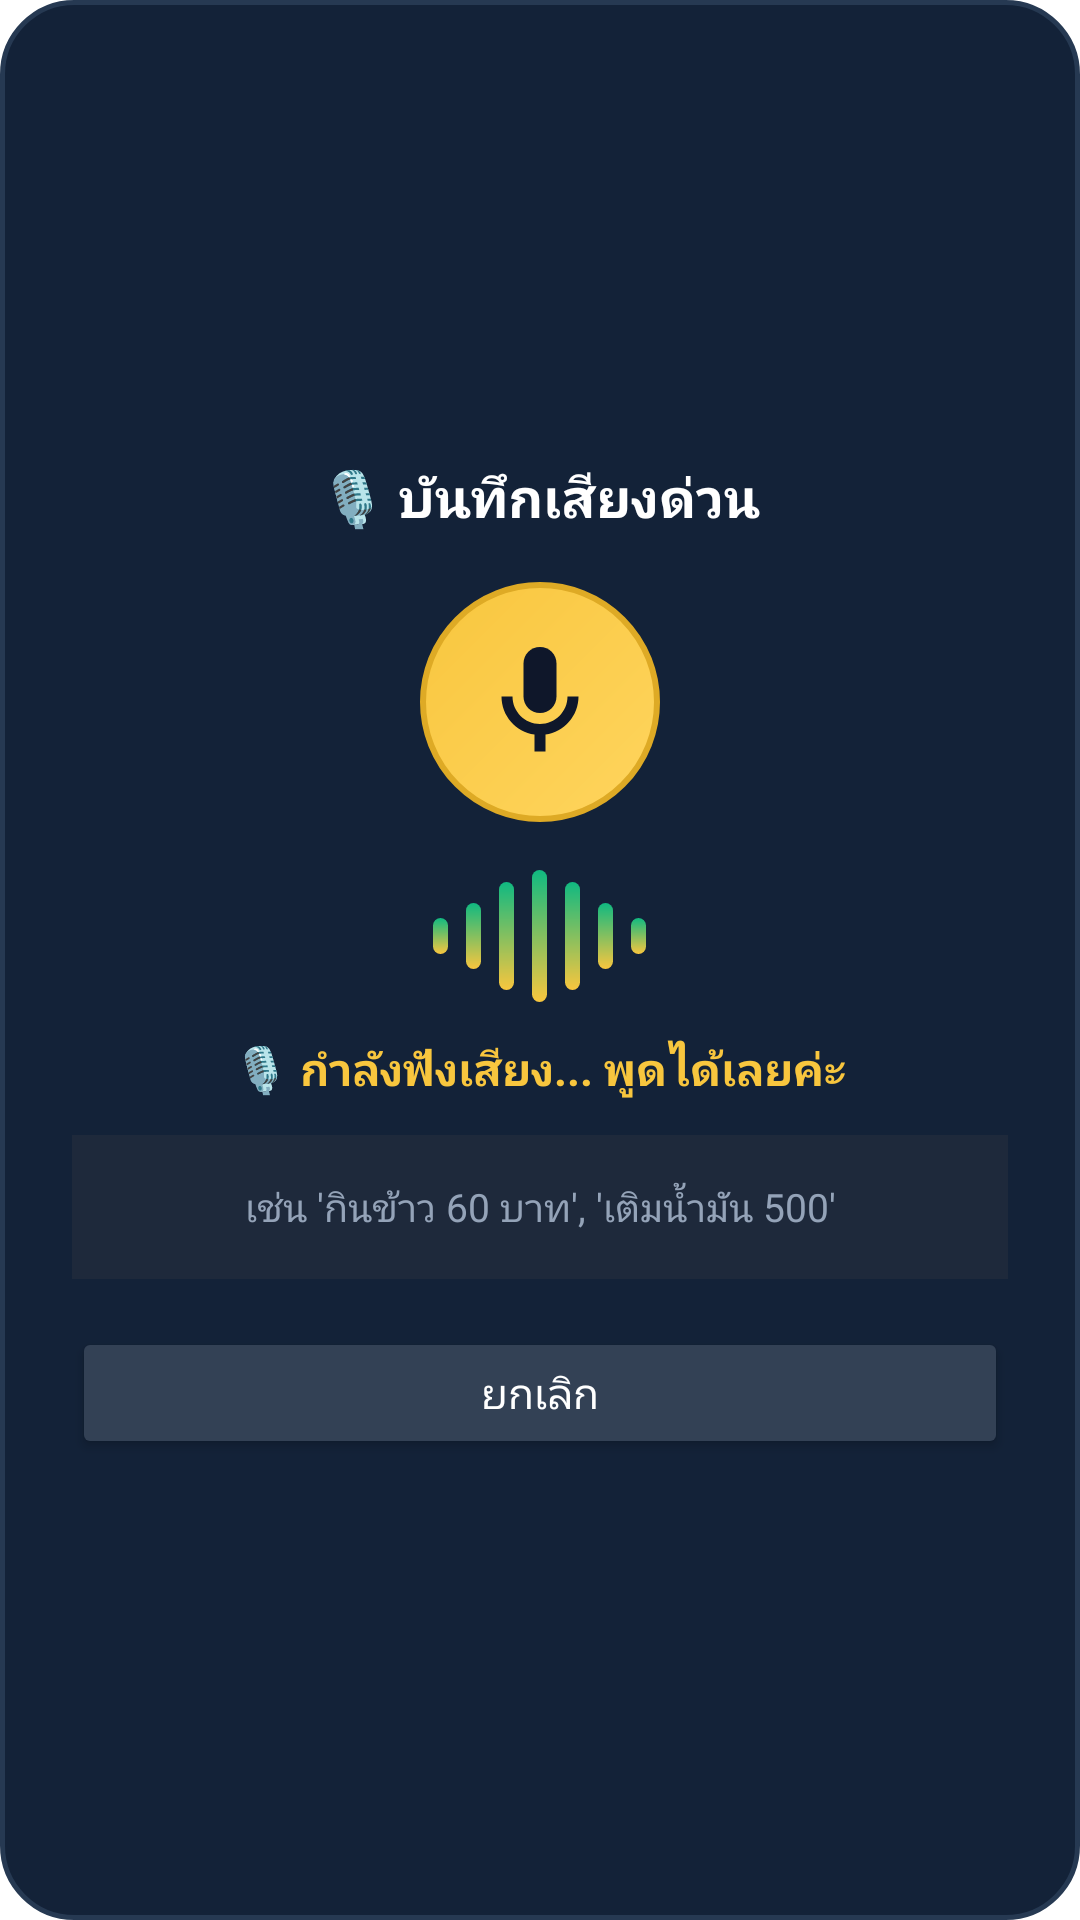

Screen size 1080*1920. Icon name, then its center in pixels as (x=x, y=y):
ไมโครโฟน: (x=540, y=699)
